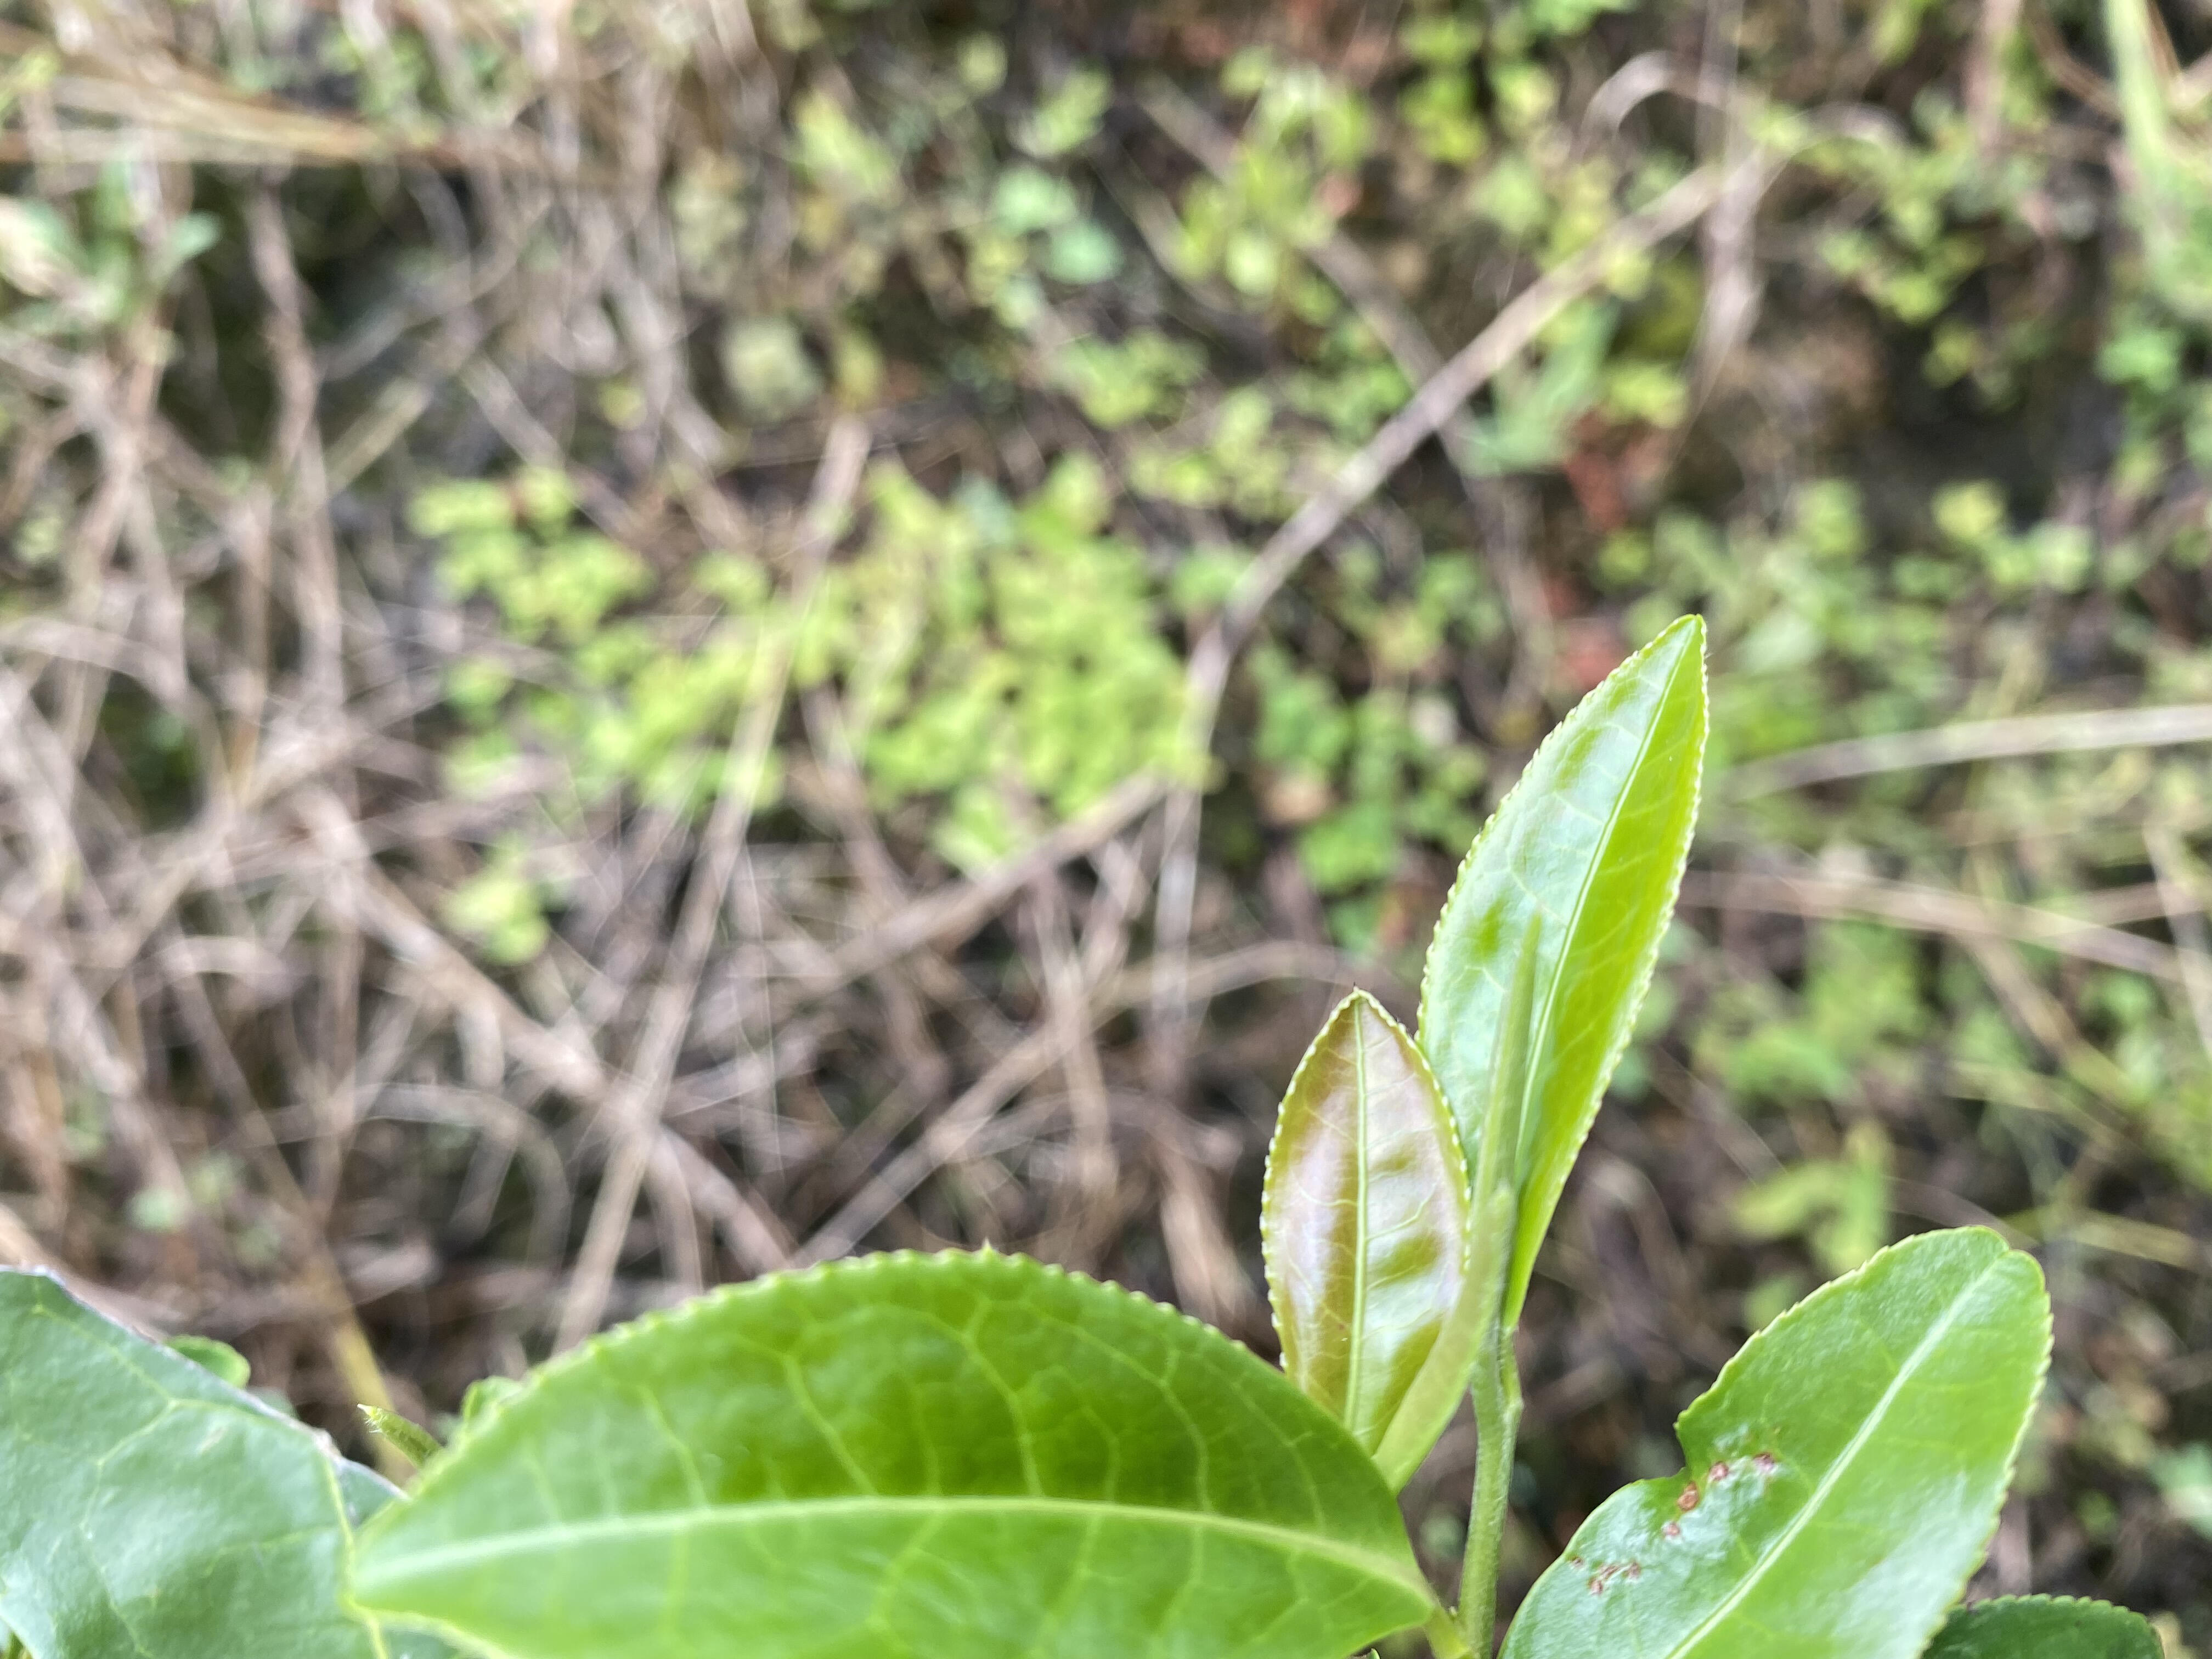healthy: (350, 1244, 1430, 1657), (1416, 610, 1710, 1330), (1252, 990, 1472, 1492)
tanju_low: (1493, 1225, 2054, 1659)
